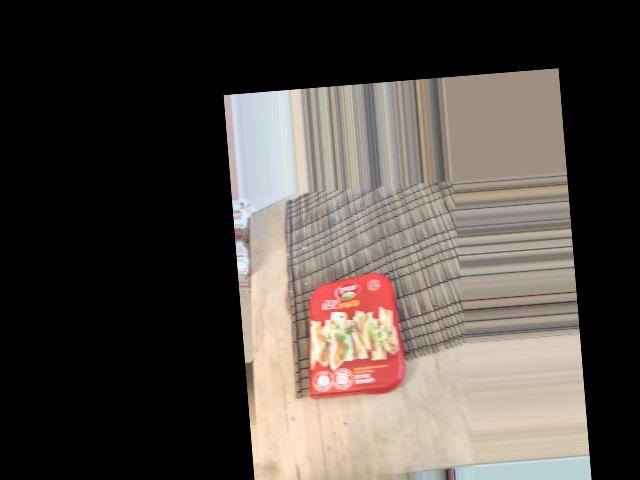cheese: (329, 248, 466, 347)
